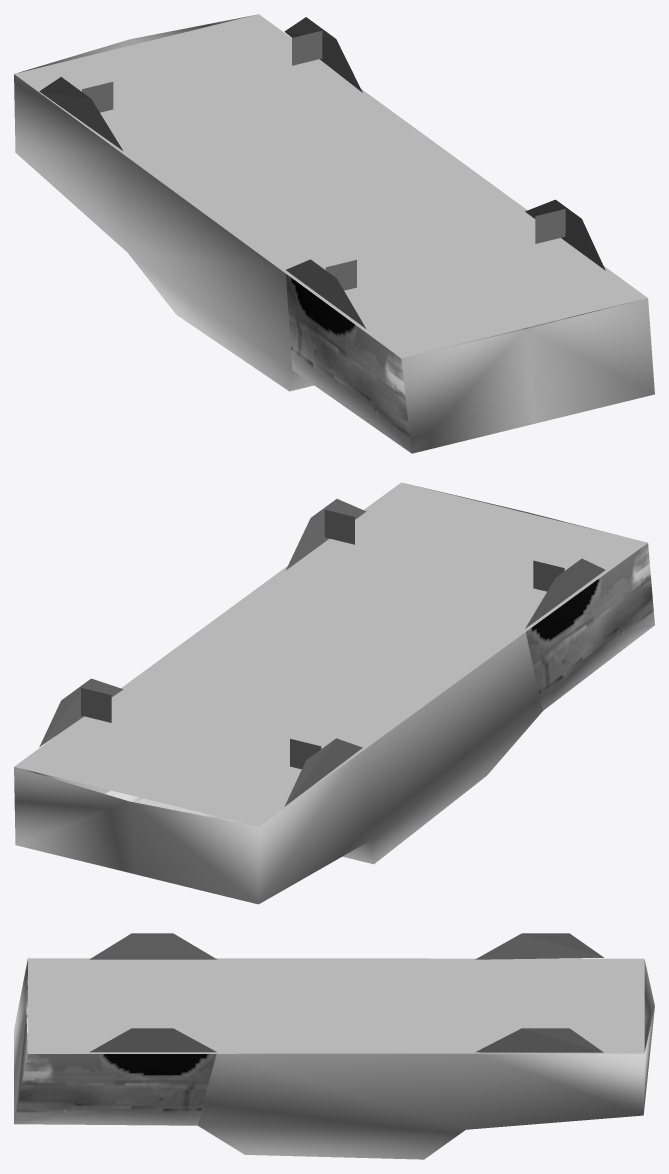
Rendered from HAVANA_model0_low.obj.
3 renders of one model, top to bottom at view 1: azimuth 30°, elevation 25°; view 2: azimuth 150°, elevation 25°; view 3: azimuth 270°, elevation 25°, orthographic. The views are drawn at different scales.
Parts seen in each view (by area): view 1: HAVANA_model0_low; view 2: HAVANA_model0_low; view 3: HAVANA_model0_low.
Boxes of the visible parts, <box> form: HAVANA_model0_low: <box>14,14,654,453</box>; HAVANA_model0_low: <box>14,482,654,904</box>; HAVANA_model0_low: <box>14,933,654,1159</box>.
Size of the model in its own units: 1.76 by 1.34 by 4.91.
